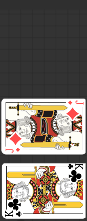JD: (4, 147, 21, 154)
